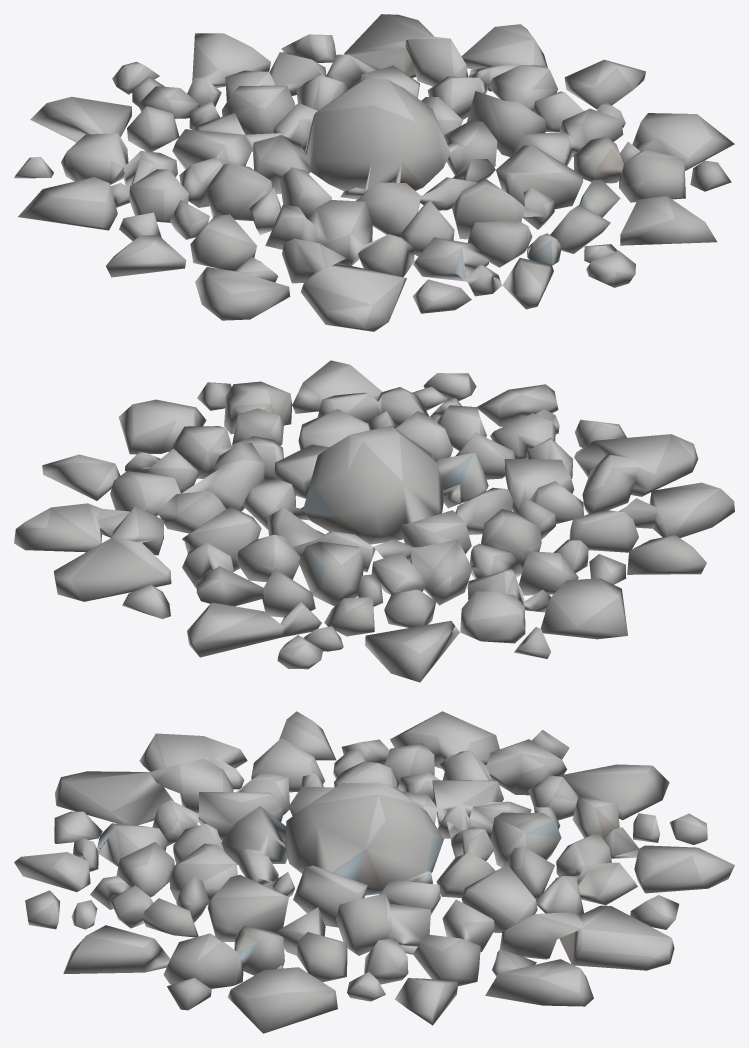
File: fx_blast_star.glb
3 views of the same model, one above another, from view 1: azimuth 30°, elevation 25°; view 2: azimuth 150°, elevation 25°; view 3: azimuth 270°, elevation 25° (orthographic). The views are drawn at different scales.
Parts seen in each view (by area): view 1: Mesh_0; view 2: Mesh_0; view 3: Mesh_0.
Part boxes in pixels (<box>): Mesh_0: <box>14,14,734,331</box>; Mesh_0: <box>14,360,734,682</box>; Mesh_0: <box>14,711,734,1033</box>.
Size of the model in its own units: 1.89 by 0.3 by 1.89.
1 material, 1 textured.
